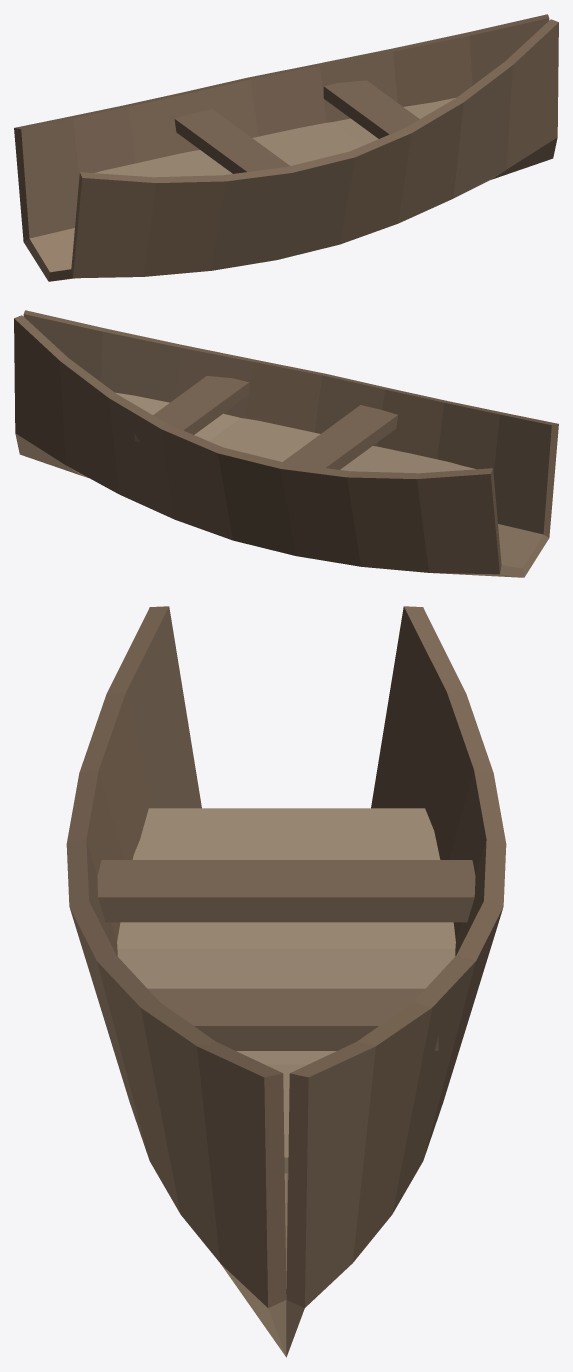
The model's file is skiff.glb.
3 renders of one model, top to bottom at view 1: azimuth 30°, elevation 25°; view 2: azimuth 150°, elevation 25°; view 3: azimuth 270°, elevation 25°, orthographic. The views are drawn at different scales.
Parts seen in each view (by area): view 1: skiff; view 2: skiff; view 3: skiff.
Boxes of the visible parts, x1,y1,x2,y2 form: skiff: (14,14,558,281); skiff: (14,310,558,577); skiff: (66,606,506,1357).
Bounding box in the file's own units: 0.3419 × 0.1041 × 0.1288.
